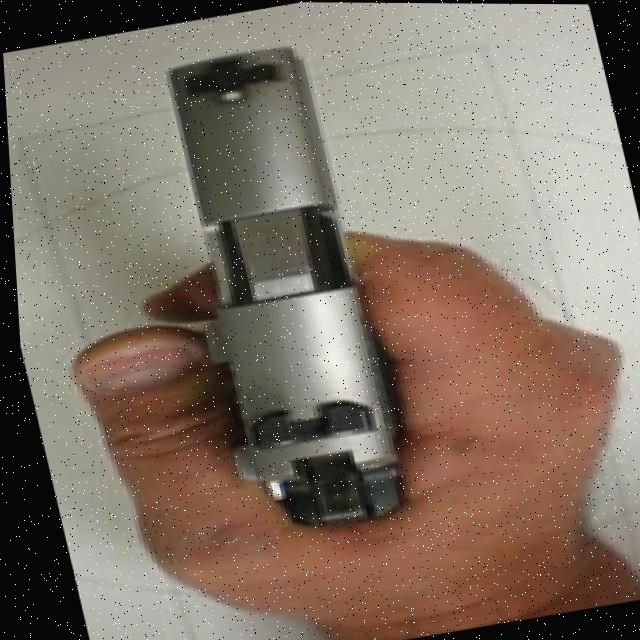pistol: (132, 37, 416, 542)
